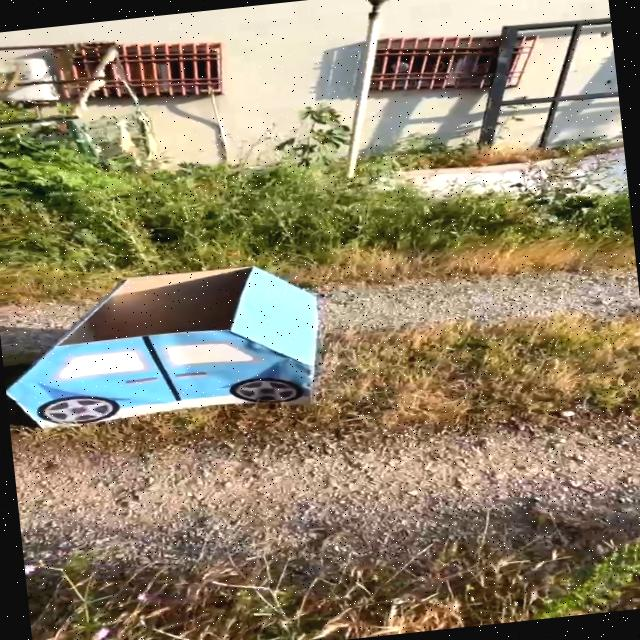blue_car: (0, 237, 389, 459)
